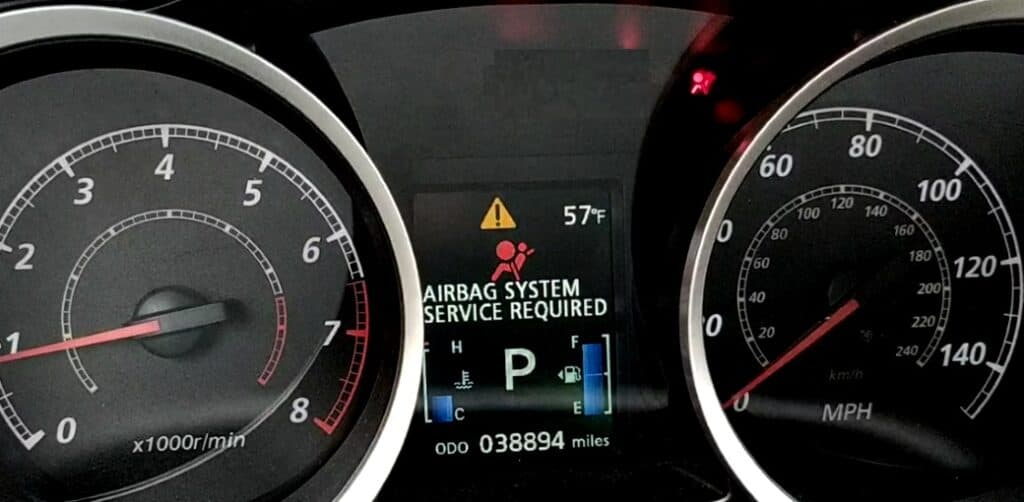Airbag_warning: (484, 237, 539, 280)
